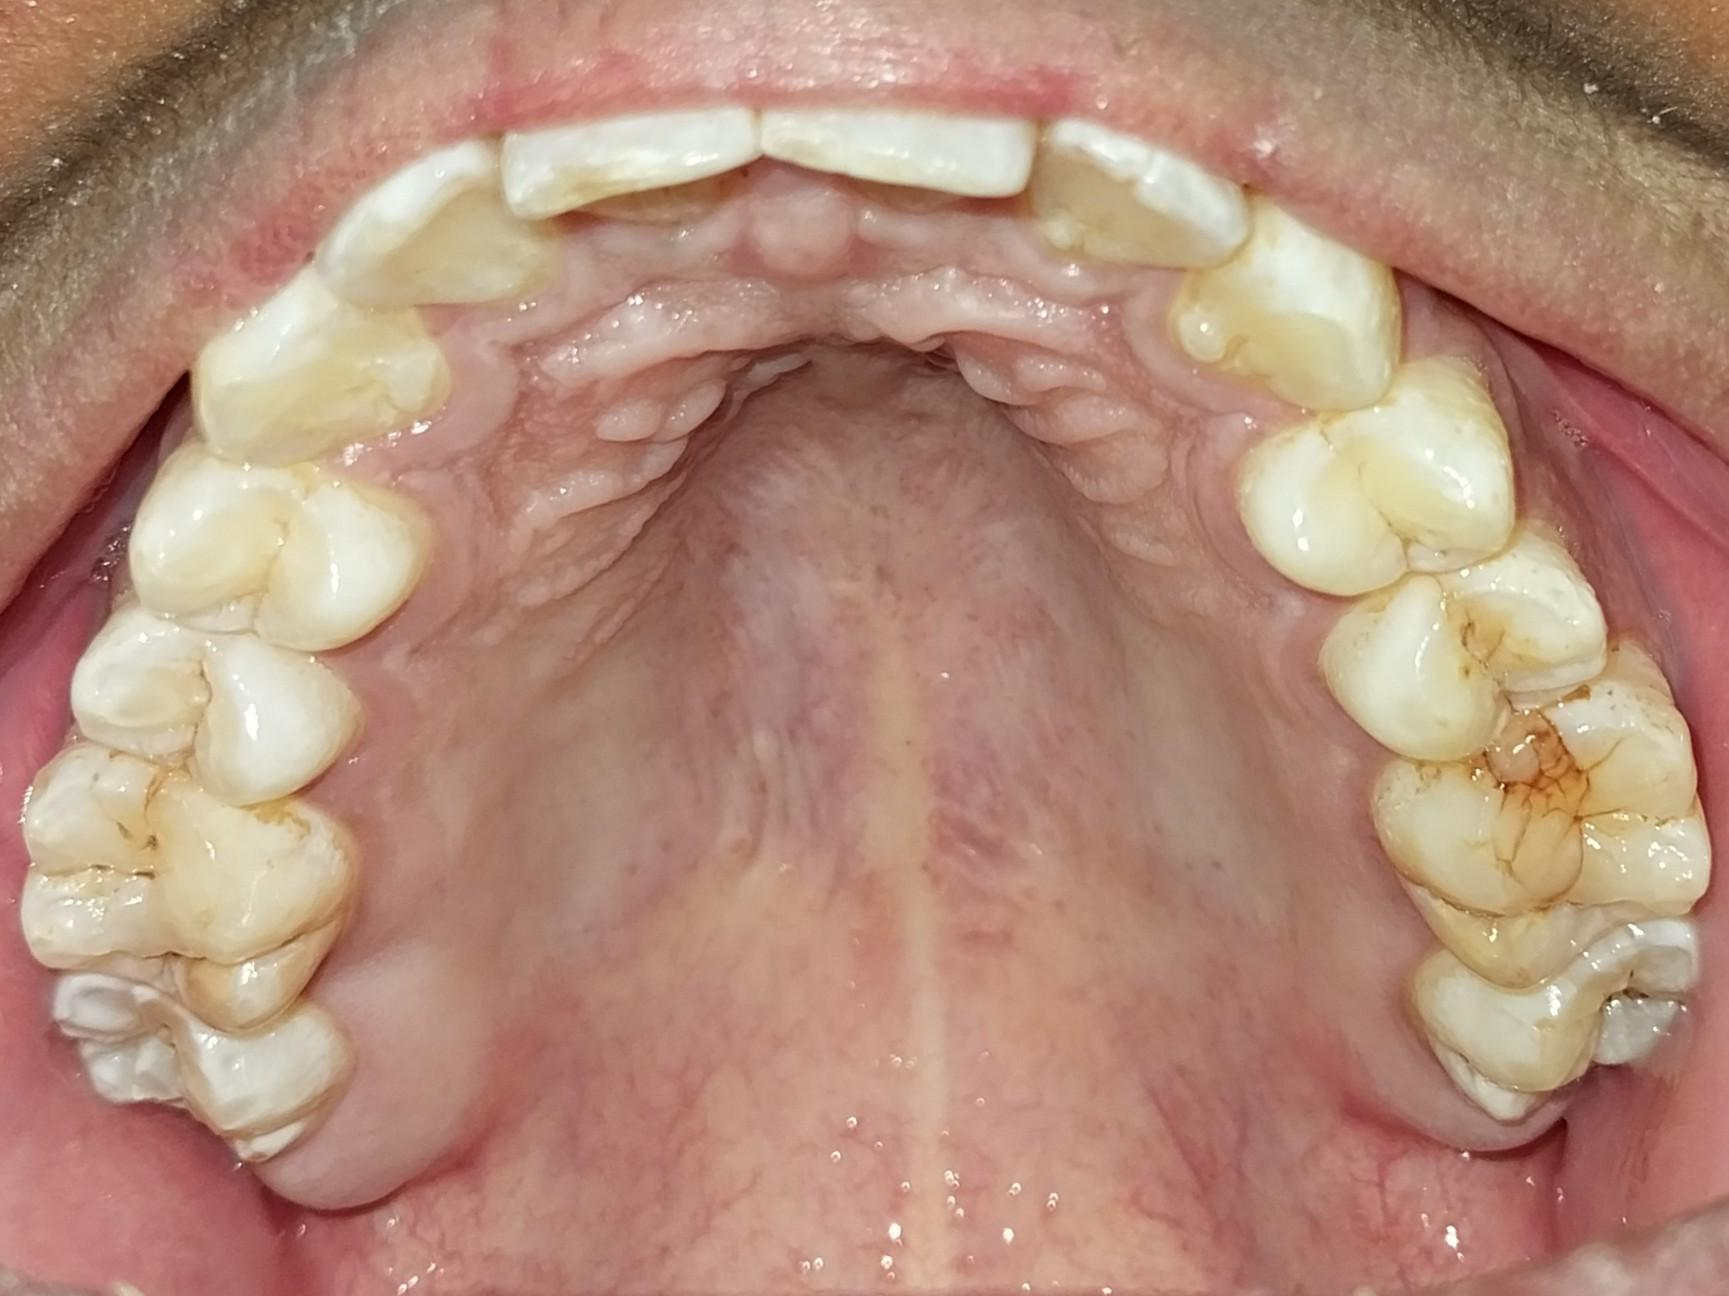D: (8, 740, 359, 1037), (1410, 917, 1729, 1123)
